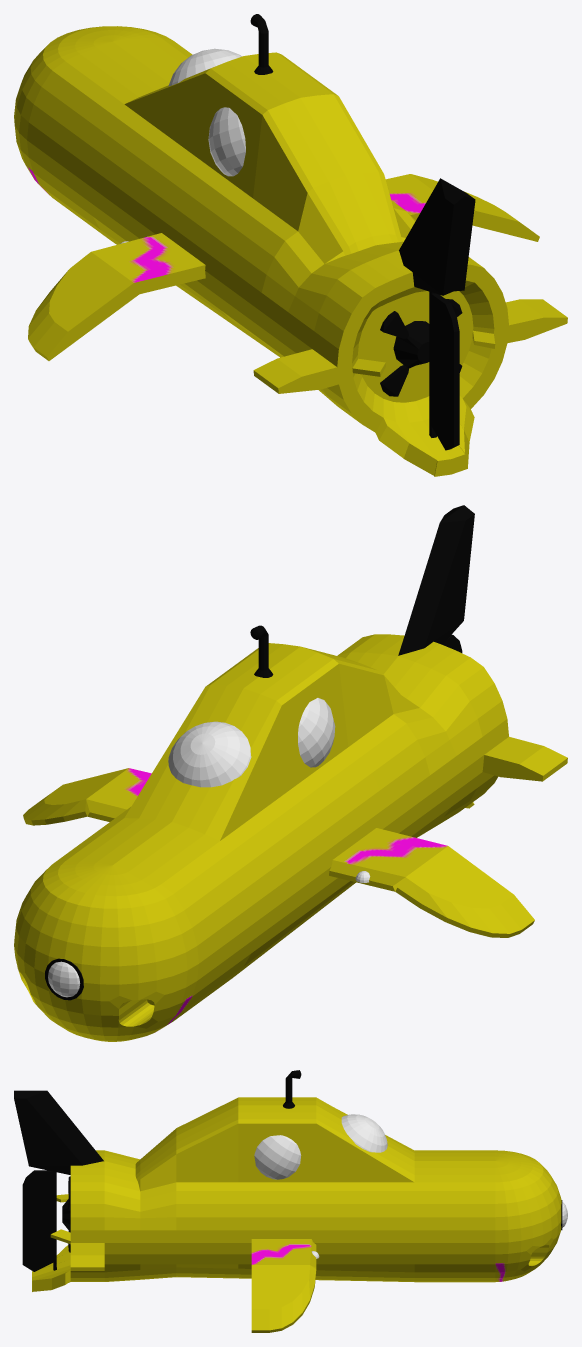
File: submarine.fbx
The picture shows the model from 3 angles, top to bottom: view 1: azimuth 30°, elevation 25°; view 2: azimuth 150°, elevation 25°; view 3: azimuth 270°, elevation 25°; orthographic projection. The views are drawn at different scales.
Visible parts, largest first — view 1: Cylinder, Cube, Plane, Cube.001, Cylinder.001, Sphere.001, Sphere, Circle; view 2: Cylinder, Cube, Plane, Sphere, Sphere.001, Sphere.005, Circle; view 3: Cylinder, Cube, Plane, Cube.001, Sphere.002, Sphere, Circle.
Part boxes in pixels (left/top/right/bottom): Cylinder: left=14, top=26, right=567, bottom=476; Cube: left=28, top=174, right=539, bottom=360; Plane: left=399, top=178, right=475, bottom=295; Cube.001: left=429, top=291, right=459, bottom=450; Cylinder.001: left=380, top=299, right=462, bottom=396; Sphere.001: left=208, top=107, right=245, bottom=176; Sphere: left=168, top=48, right=241, bottom=86; Circle: left=250, top=14, right=273, bottom=74; Cylinder: left=14, top=634, right=567, bottom=1041; Cube: left=23, top=768, right=534, bottom=937; Plane: left=398, top=505, right=474, bottom=655; Sphere: left=168, top=721, right=251, bottom=787; Sphere.001: left=298, top=698, right=335, bottom=767; Sphere.005: left=48, top=961, right=80, bottom=997; Circle: left=250, top=625, right=273, bottom=677; Cylinder: left=32, top=1097, right=561, bottom=1291; Cube: left=251, top=1239, right=316, bottom=1332; Plane: left=14, top=1090, right=103, bottom=1174; Cube.001: left=22, top=1170, right=56, bottom=1271; Sphere.002: left=254, top=1135, right=301, bottom=1179; Sphere: left=341, top=1114, right=387, bottom=1152; Circle: left=283, top=1070, right=301, bottom=1108.
Bounding box in the file's own units: 230 × 141 × 326.
Materials: 4 (1 with a texture image).
